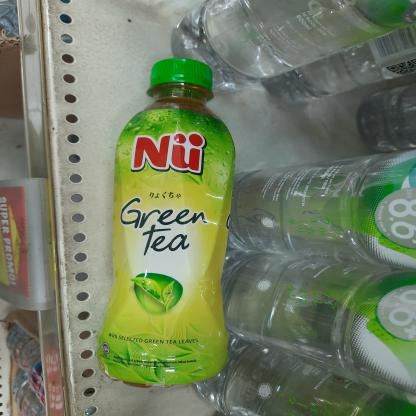bottle: (97, 57, 239, 394)
